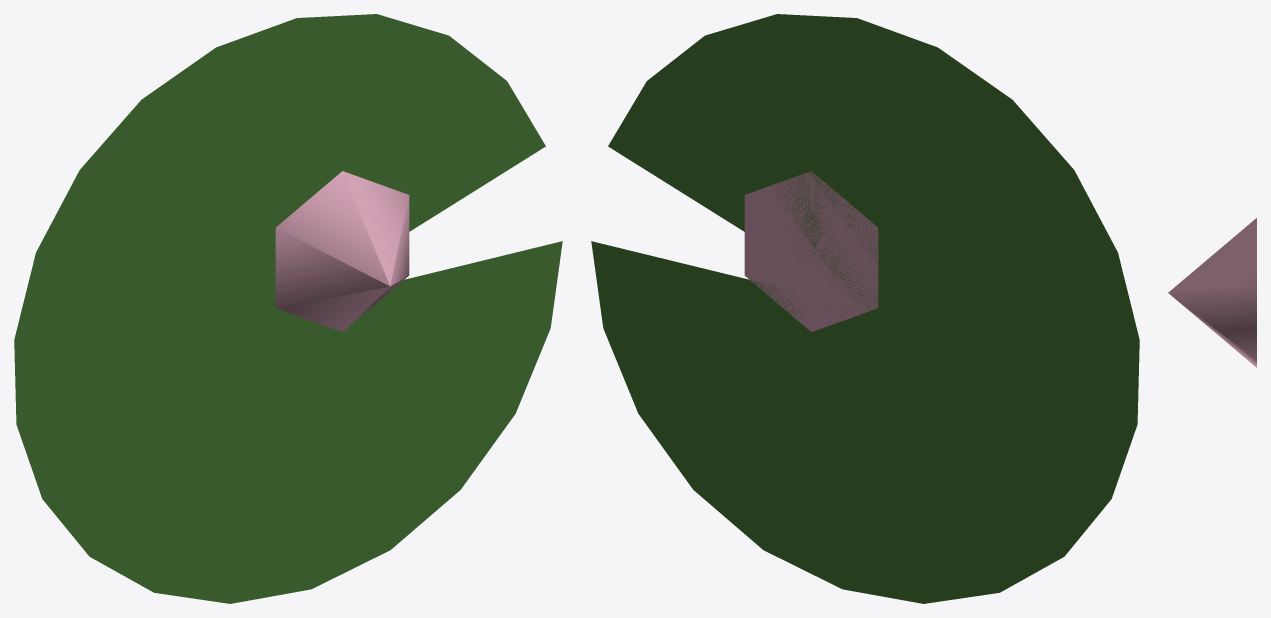
Rendered from lilypad.glb.
The picture shows the model from 3 angles, left to right: view 1: azimuth 30°, elevation 25°; view 2: azimuth 150°, elevation 25°; view 3: azimuth 270°, elevation 25°; orthographic projection. The views are drawn at different scales.
Visible parts, largest first — view 1: LilypadMesh; view 2: LilypadMesh; view 3: LilypadMesh.
Part boxes in pixels (box(x1,y1,x2,y2)): LilypadMesh: box(14, 14, 562, 603); LilypadMesh: box(591, 14, 1139, 603); LilypadMesh: box(1168, 218, 1256, 367).
Size of the model in its own units: 1.99 by 2 by 0.3.
